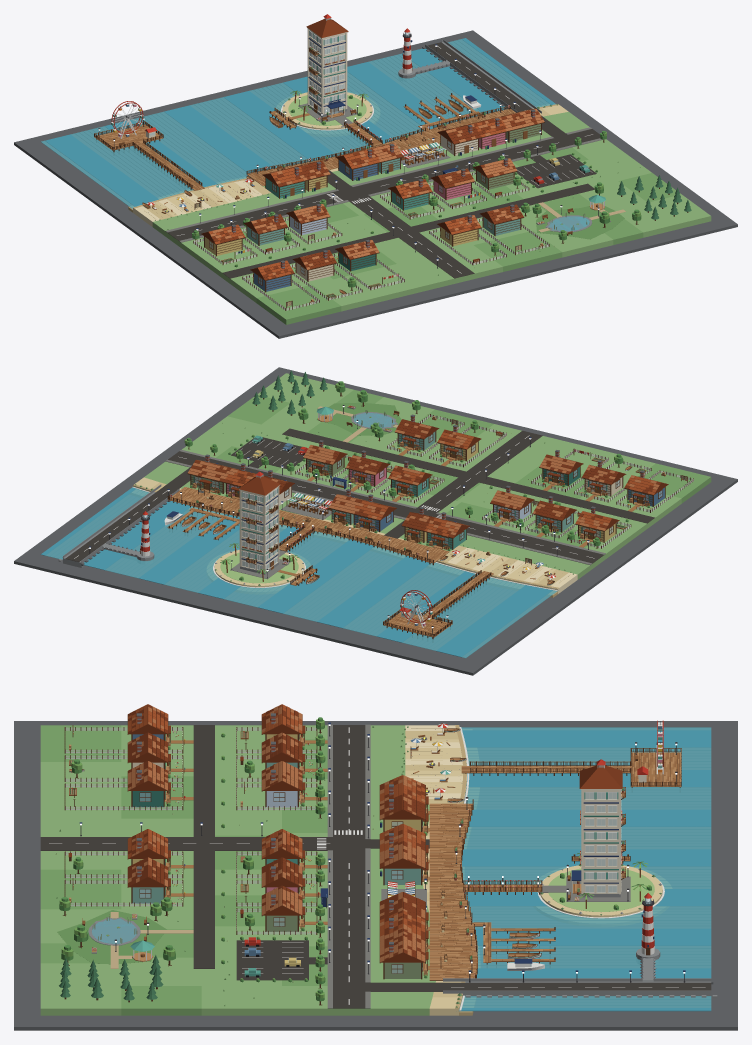
The model's file is FishermanMistressHarbor.fbx.
3 views of the same model, one above another, from view 1: azimuth 30°, elevation 25°; view 2: azimuth 150°, elevation 25°; view 3: azimuth 270°, elevation 25° (orthographic). The views are drawn at different scales.
Parts seen in each view (by area): view 1: Terrain_StoneDark_2_2_00, Water_Water_1_3_00, Water_Water_0_3_00, Water_Water2_1_3_00, Terrain_Grass_1_0_00, Roads_Ash_2_1_00, Water_Water_3_3_00, Water_Water2_0_3_00, Water_Water_2_3_00, Terrain_Grass_3_0_00, Terrain_Grass_0_1_00, Water_Water2_3_3_00 (+48 smaller); view 2: Terrain_StoneDark_2_2_00, Water_Water_1_3_00, Water_Water2_1_3_00, Water_Water_0_3_00, Water_Water_3_3_00, Water_Water2_0_3_00, Roads_Ash_2_1_00, Water_Water_2_3_00, Terrain_Grass_1_0_00, Water_Water2_3_3_00, Terrain_Grass_3_0_00, Terrain_Grass_3_1_00 (+52 smaller); view 3: Terrain_StoneDark_2_2_00, Roads_Ash_2_1_00, Water_Water_1_3_00, Water_Water_0_3_00, Water_Water2_1_3_00, Water_Water_3_3_00, Water_Water_2_3_00, Water_Water2_0_3_00, Terrain_Grass_1_0_00, Terrain_Grass_3_1_00, Terrain_Grass_3_0_00, Water_Water2_3_3_00 (+87 smaller).
Boxes of the visible parts, box(x1,y1,x2,y2) form: Terrain_StoneDark_2_2_00: box(14, 30, 737, 338); Water_Water_1_3_00: box(147, 90, 341, 180); Water_Water_0_3_00: box(41, 116, 234, 208); Water_Water2_1_3_00: box(164, 91, 334, 173); Terrain_Grass_1_0_00: box(363, 227, 498, 298); Roads_Ash_2_1_00: box(167, 129, 600, 240); Water_Water_3_3_00: box(368, 39, 550, 122); Water_Water2_0_3_00: box(45, 120, 217, 206); Water_Water_2_3_00: box(253, 72, 424, 154); Terrain_Grass_3_0_00: box(579, 181, 711, 246); Terrain_Grass_0_1_00: box(168, 217, 327, 281); Water_Water2_3_3_00: box(360, 38, 555, 125); Terrain_StoneDark_2_2_00: box(14, 367, 737, 675); Water_Water_1_3_00: box(253, 538, 448, 632); Water_Water2_1_3_00: box(257, 539, 430, 628); Water_Water_0_3_00: box(359, 566, 558, 658); Water_Water_3_3_00: box(45, 488, 225, 578); Water_Water2_0_3_00: box(376, 571, 552, 657); Roads_Ash_2_1_00: box(168, 451, 603, 563); Water_Water_2_3_00: box(164, 524, 345, 606); Terrain_Grass_1_0_00: box(445, 425, 604, 483); Water_Water2_3_3_00: box(41, 487, 234, 580); Terrain_Grass_3_0_00: box(257, 373, 391, 432); Terrain_Grass_3_1_00: box(182, 416, 326, 475); Terrain_StoneDark_2_2_00: box(14, 721, 737, 1030); Roads_Ash_2_1_00: box(333, 725, 365, 1008); Water_Water_1_3_00: box(462, 798, 711, 869); Water_Water_0_3_00: box(461, 727, 711, 798); Water_Water2_1_3_00: box(462, 809, 711, 866); Water_Water_3_3_00: box(462, 945, 711, 1007); Water_Water_2_3_00: box(462, 869, 711, 928); Water_Water2_0_3_00: box(462, 730, 711, 787); Terrain_Grass_1_0_00: box(40, 796, 193, 866); Terrain_Grass_3_1_00: box(201, 937, 362, 1015); Terrain_Grass_3_0_00: box(40, 937, 201, 1015); Water_Water2_3_3_00: box(459, 940, 711, 1011).
Size of the model in its own units: 540 by 116 by 540.
